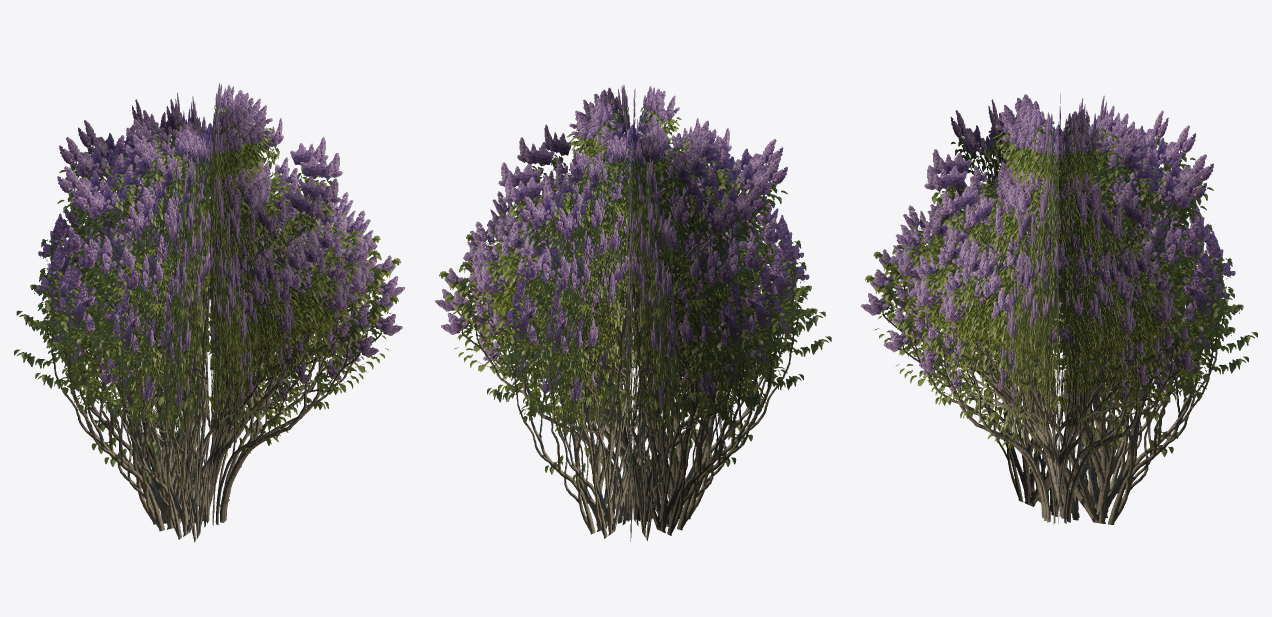
The model's file is bush5.fbx.
The picture shows the model from 3 angles, left to right: view 1: azimuth 30°, elevation 25°; view 2: azimuth 150°, elevation 25°; view 3: azimuth 270°, elevation 25°; orthographic projection.
Parts seen in each view (by area): view 1: bush5; view 2: bush5; view 3: bush5.
Part boxes in pixels (bbox=[...]): bush5: bbox=[14, 83, 404, 542]; bush5: bbox=[435, 84, 831, 541]; bush5: bbox=[861, 93, 1257, 524].
Size of the model in its own units: 36.67 by 42.83 by 36.67.
Materials: 1 (1 with a texture image).
